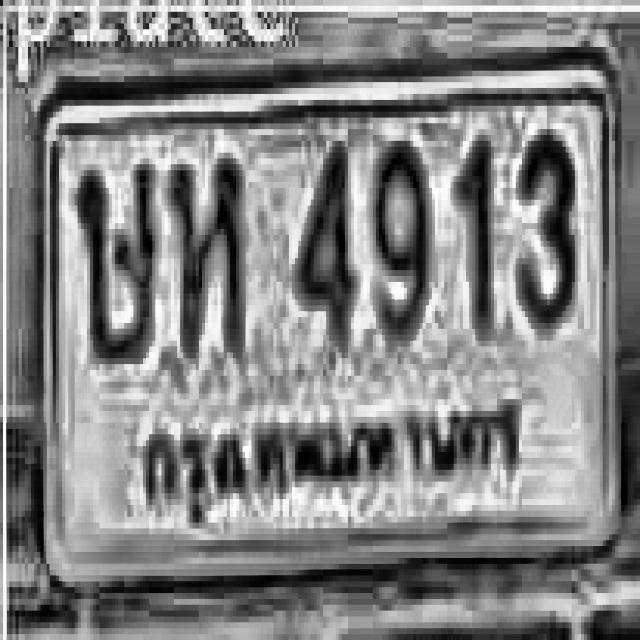license-plate: (39, 51, 619, 580)
